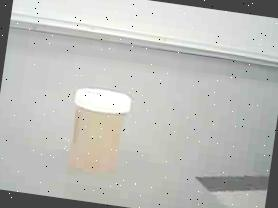Bottle B: (58, 81, 141, 182)
